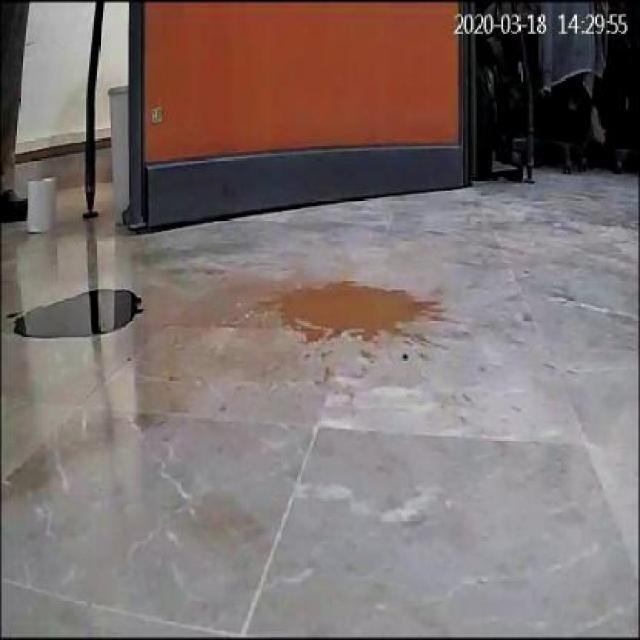spill: (268, 278, 447, 347), (11, 285, 140, 341)
